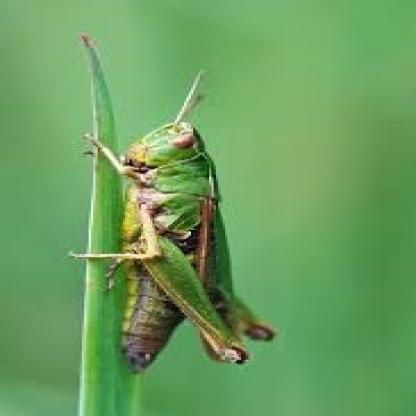grasshopper: (72, 75, 280, 385)
